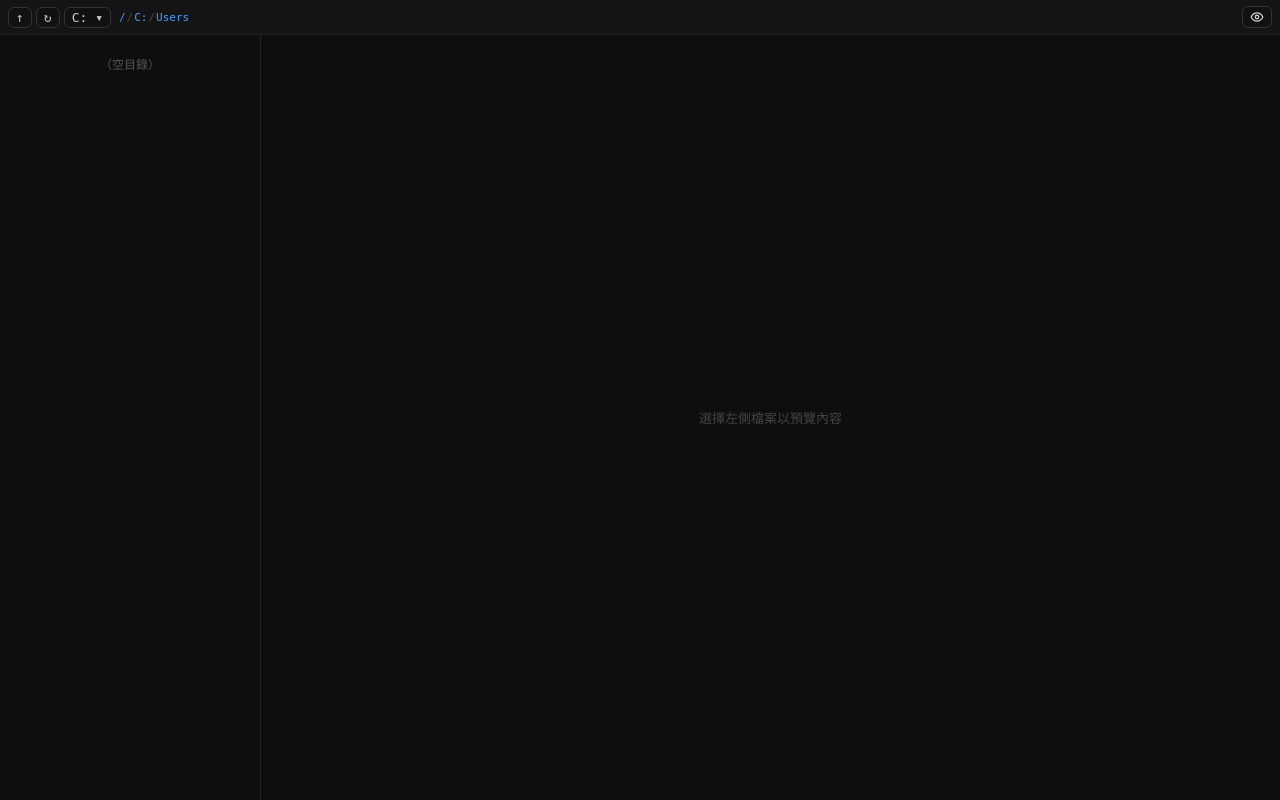
FileExplorer — drive switcher › keeps the previous list when re-reading fails
The image size is (1280, 800).
What coordinates should you click on to do the following:
click the button titled "切換磁碟機"
I would click on:
 (87, 17)
Its box is [64,6,111,28].
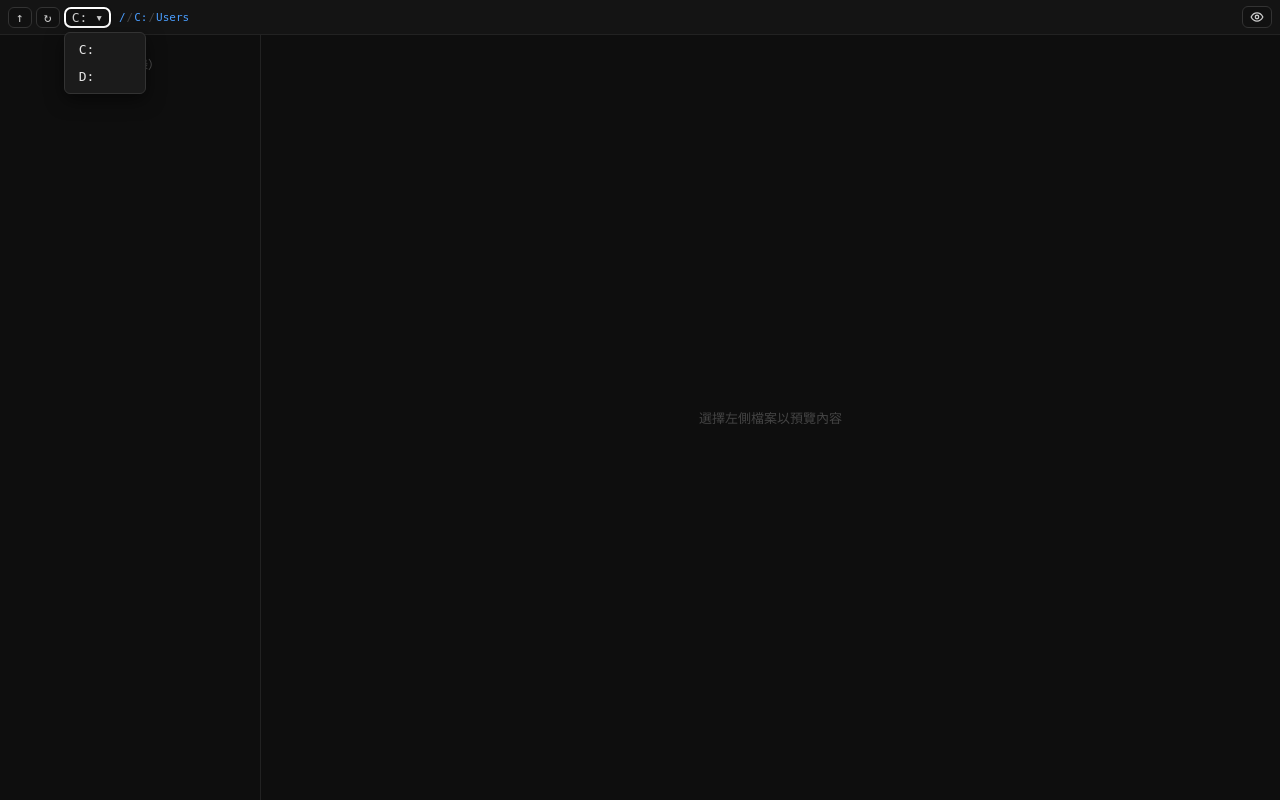
Expected: the button "D:" is shown, [69,64,141,88]
